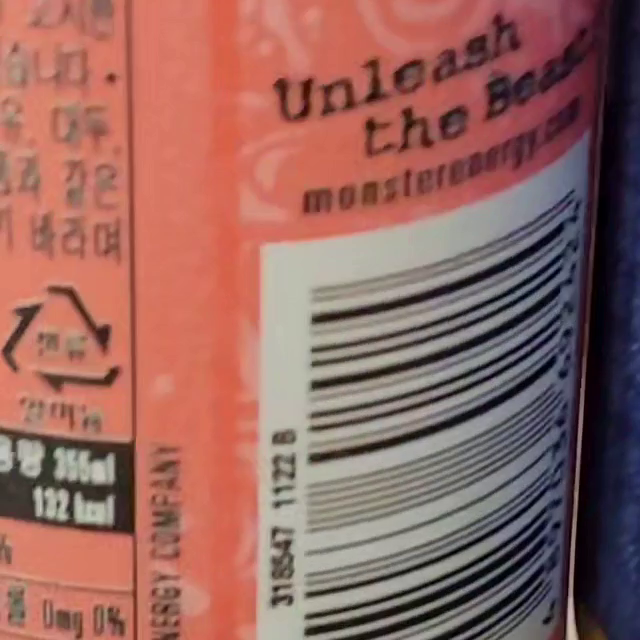Can: (4, 282, 120, 392)
